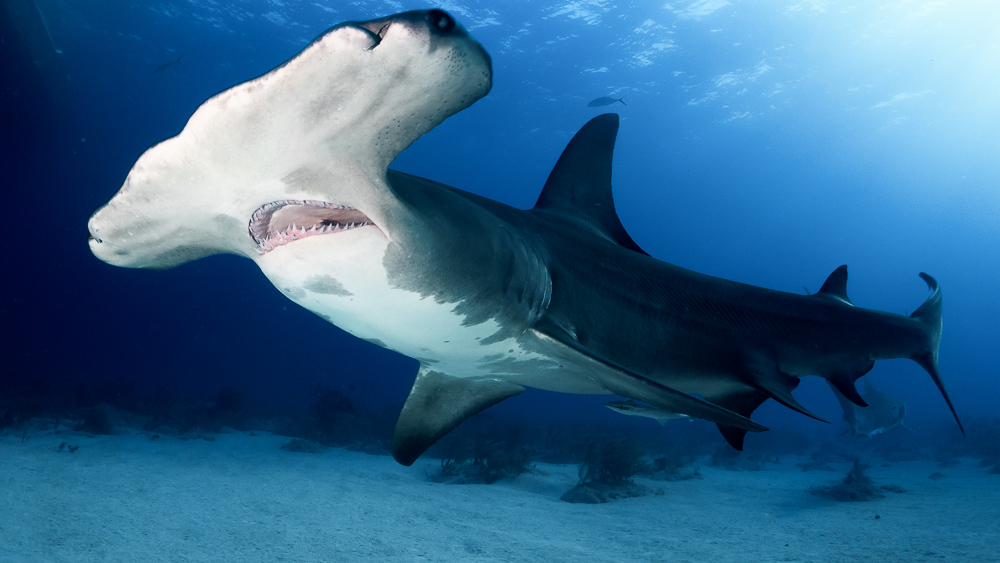shark: (90, 29, 971, 468)
